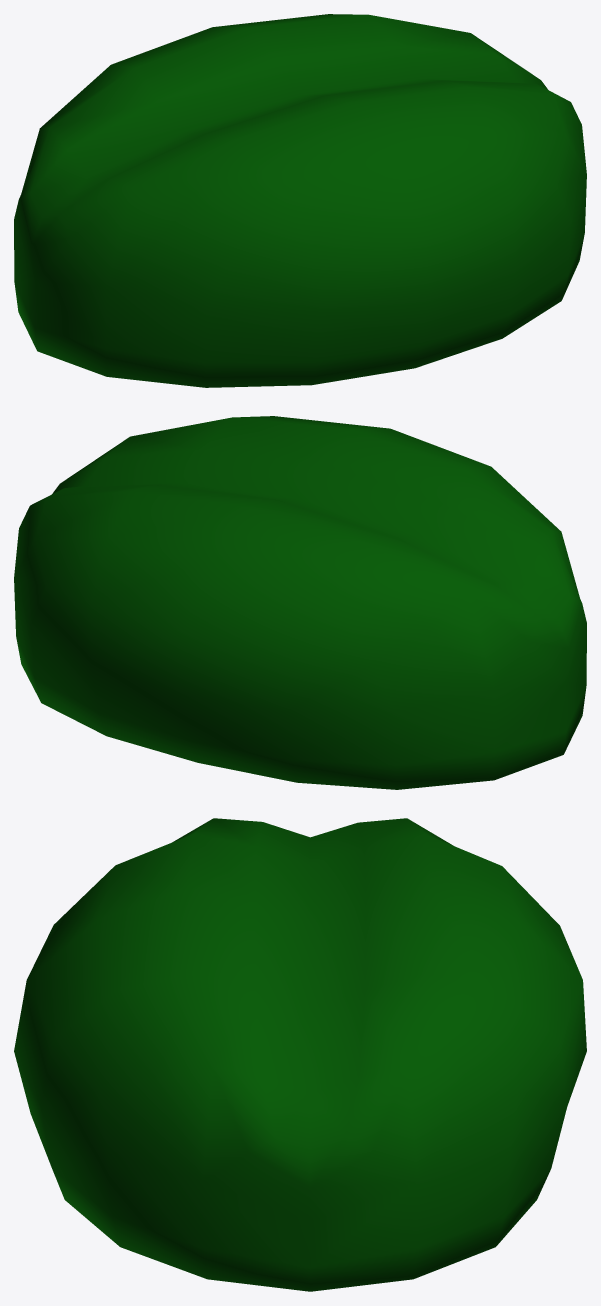
Rendered from bread04.FBX.
3 views of the same model, one above another, from view 1: azimuth 30°, elevation 25°; view 2: azimuth 150°, elevation 25°; view 3: azimuth 270°, elevation 25° (orthographic). The views are drawn at different scales.
Parts seen in each view (by area): view 1: SM_bread04_0; view 2: SM_bread04_0; view 3: SM_bread04_0.
Part boxes in pixels (x1,y1,x2,y2): SM_bread04_0: [14, 14, 586, 387]; SM_bread04_0: [14, 416, 586, 789]; SM_bread04_0: [14, 818, 586, 1291].
Bounding box in the file's own units: 14.08 × 11.2 × 5.92.
